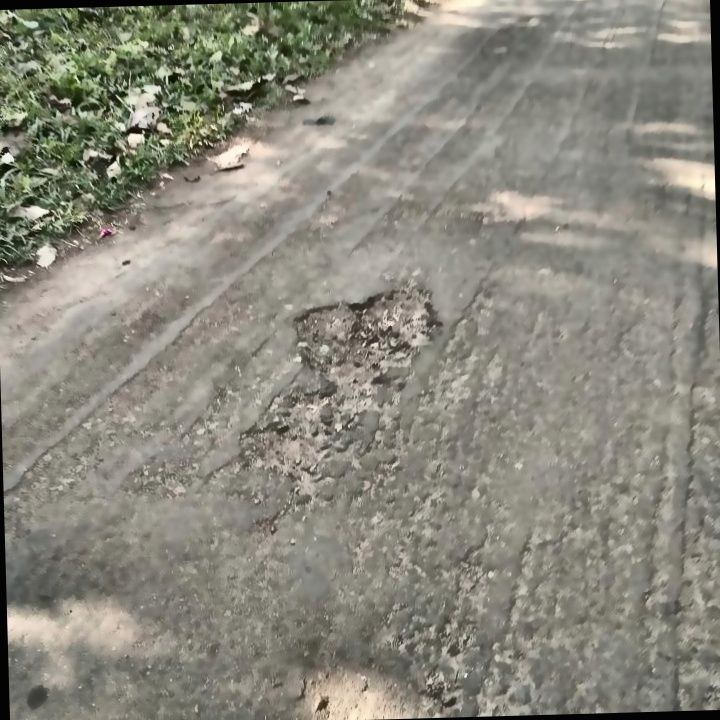pothole: (280, 281, 449, 388), (232, 387, 336, 496)
